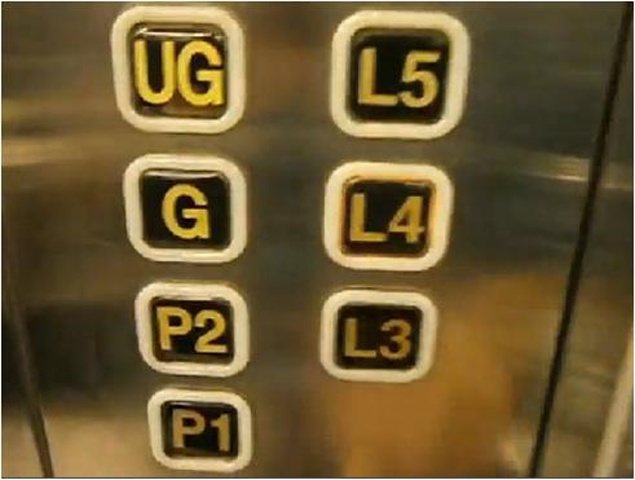G: (123, 150, 250, 265)
L3: (318, 288, 439, 384)
L4: (323, 158, 456, 275)
L5: (329, 6, 470, 141)
P1: (146, 385, 253, 477)
P2: (133, 278, 253, 380)
UG: (108, 2, 249, 137)
